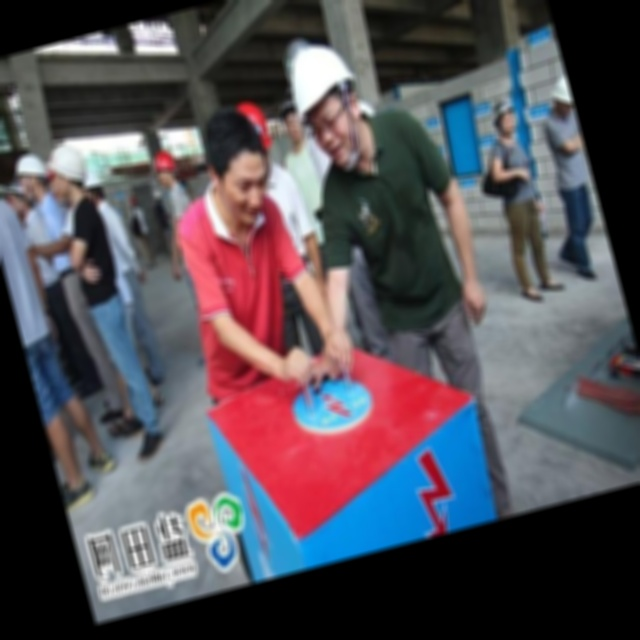Con_Casco: (279, 39, 378, 180)
Sin_Casco_Mascarrilla: (195, 101, 282, 230)
